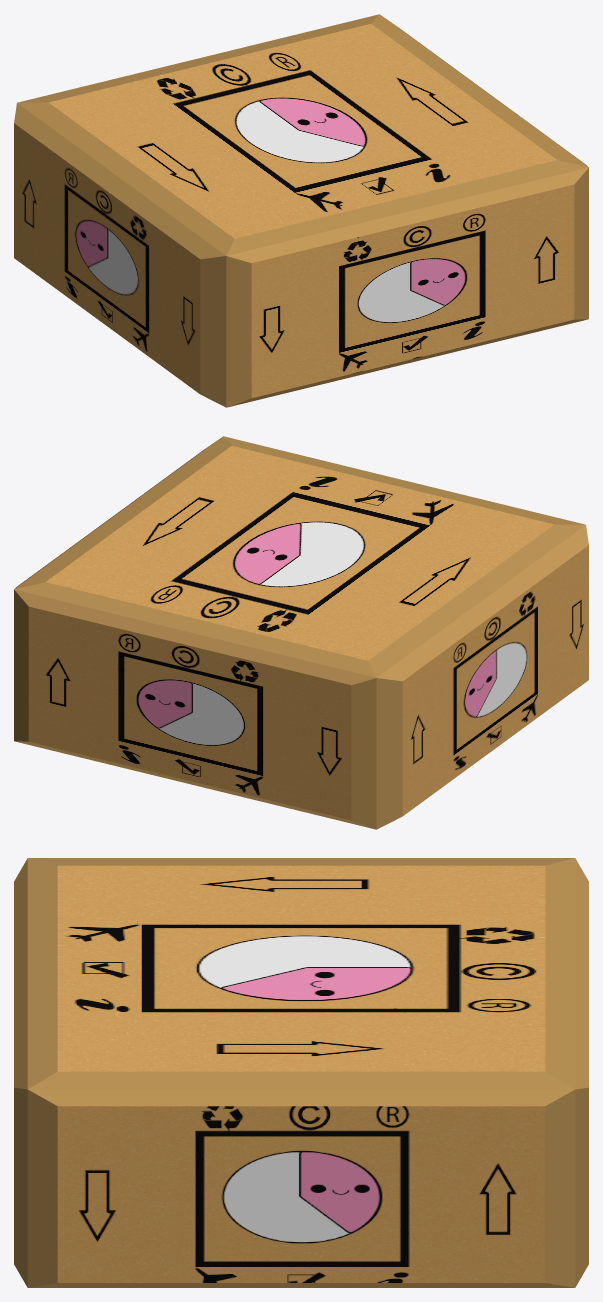
The picture shows the model from 3 angles, top to bottom: view 1: azimuth 30°, elevation 25°; view 2: azimuth 150°, elevation 25°; view 3: azimuth 270°, elevation 25°; orthographic projection. The views are drawn at different scales.
Parts seen in each view (by area): view 1: 2/5; view 2: 2/5; view 3: 2/5.
Boxes of the visible parts, left/top/right/bottom form: 2/5: left=14, top=14, right=588, bottom=407; 2/5: left=14, top=436, right=588, bottom=829; 2/5: left=14, top=858, right=588, bottom=1287.
Size of the model in its own units: 213 by 84 by 210.
Materials: 3 (2 with a texture image).
